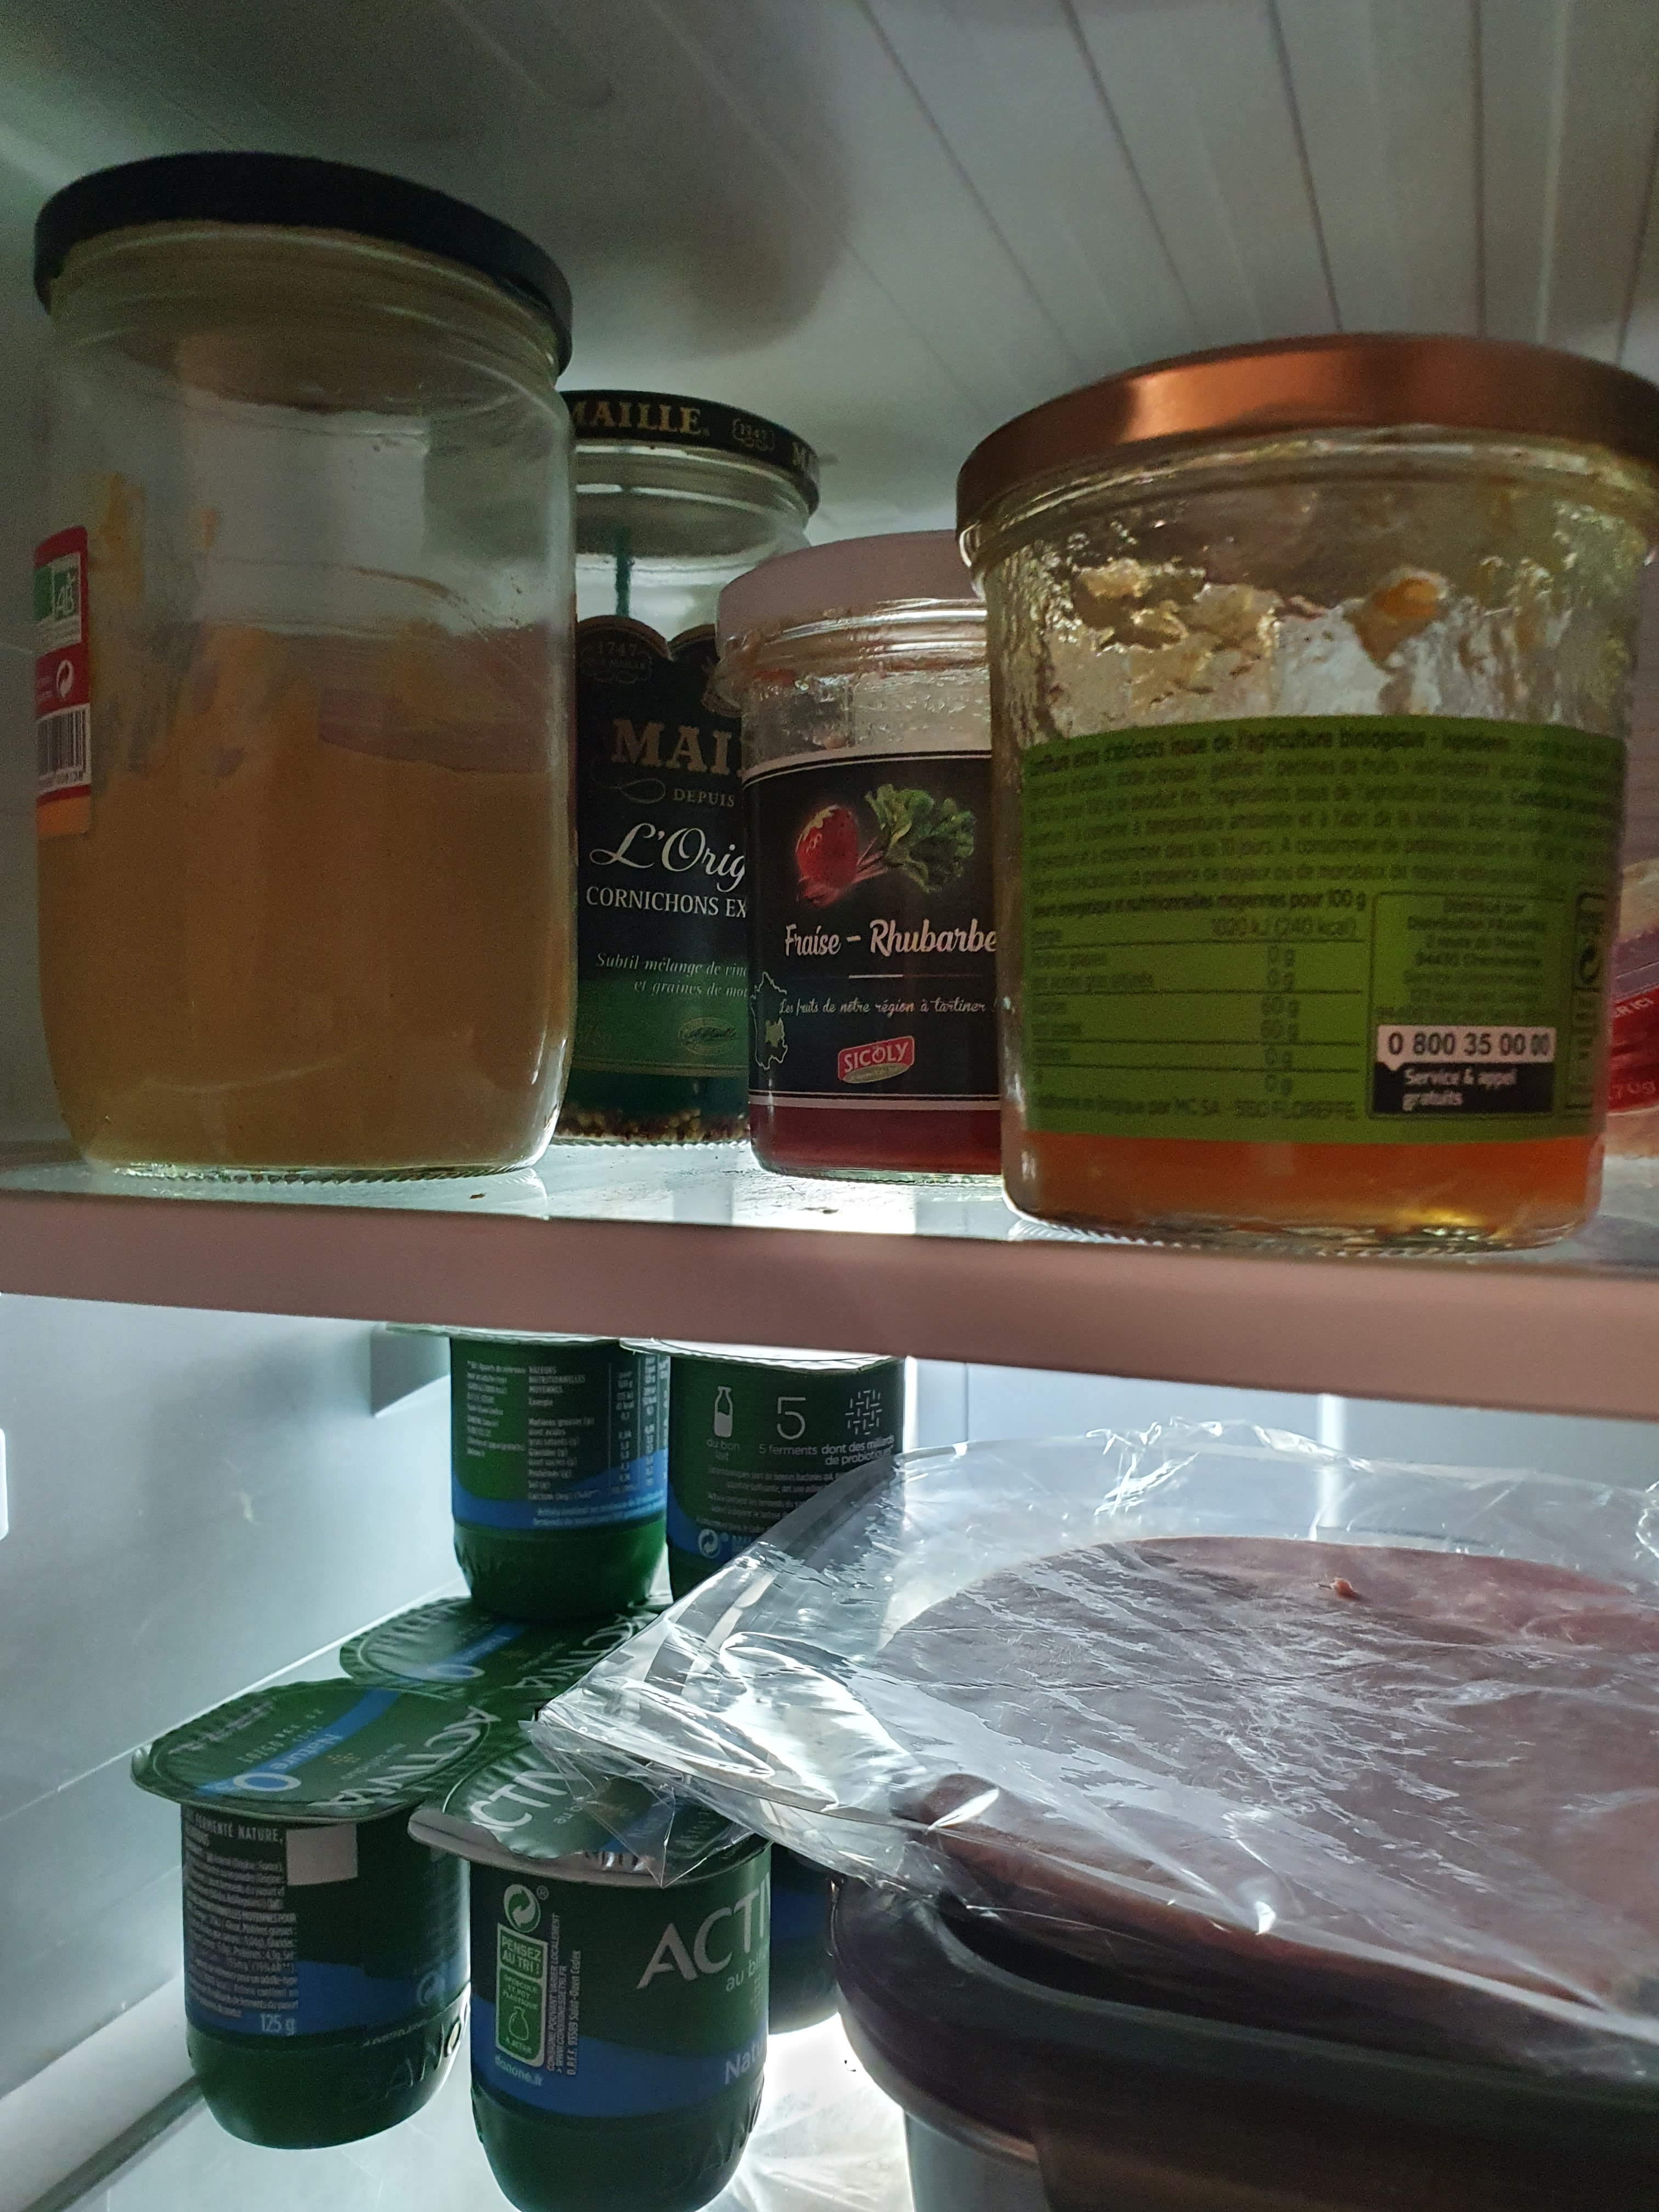yoghurt: (430, 1726, 775, 2212), (139, 1683, 479, 2137), (629, 1339, 922, 1656), (396, 1308, 666, 1604), (349, 1590, 673, 1742), (775, 1831, 849, 2027)
